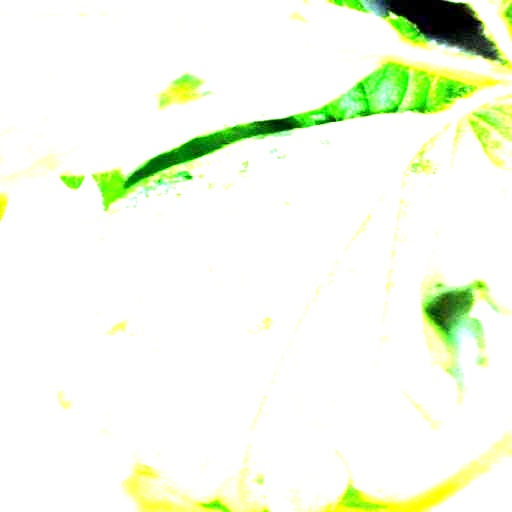Angular Leafspot: (25, 87, 511, 511)
